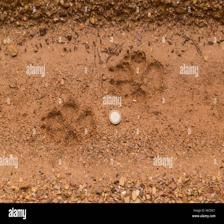wolf: (102, 47, 170, 113)
